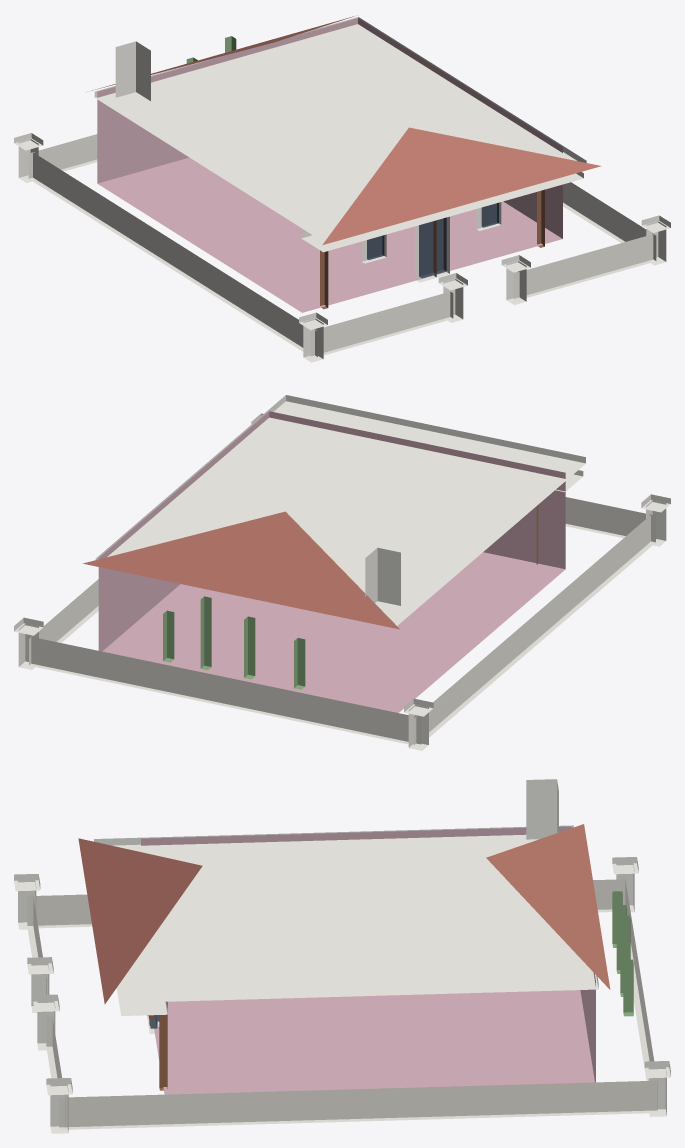
The model's file is para_house_e.glb.
The picture shows the model from 3 angles, top to bottom: view 1: azimuth 30°, elevation 25°; view 2: azimuth 150°, elevation 25°; view 3: azimuth 270°, elevation 25°; orthographic projection. The views are drawn at different scales.
Parts seen in each view (by area): view 1: para_house_e_lod0; view 2: para_house_e_lod0; view 3: para_house_e_lod0.
Part boxes in pixels (x1=…): para_house_e_lod0: x1=14, y1=16, x2=670, y2=362; para_house_e_lod0: x1=14, y1=395, x2=670, y2=750; para_house_e_lod0: x1=14, y1=779, x2=670, y2=1133.
Size of what is drawn, in the model's own units: 14.2 by 4.65 by 16.99.
